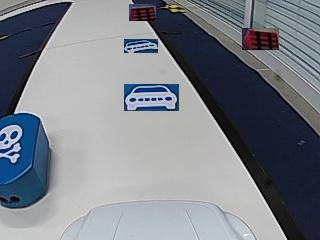danger: (0, 126, 22, 164)
